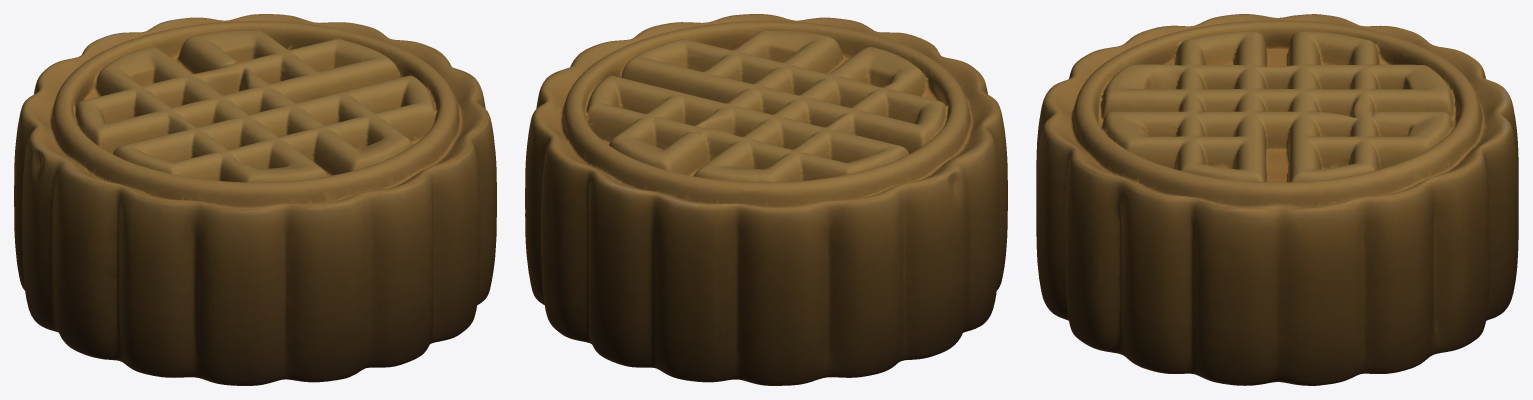
File: mooncake.glb
3 renders of one model, left to right at view 1: azimuth 30°, elevation 25°; view 2: azimuth 150°, elevation 25°; view 3: azimuth 270°, elevation 25°, orthographic.
Size of the model in its own units: 1.55 by 0.6934 by 1.55.
Materials: 1 (1 with a texture image).
